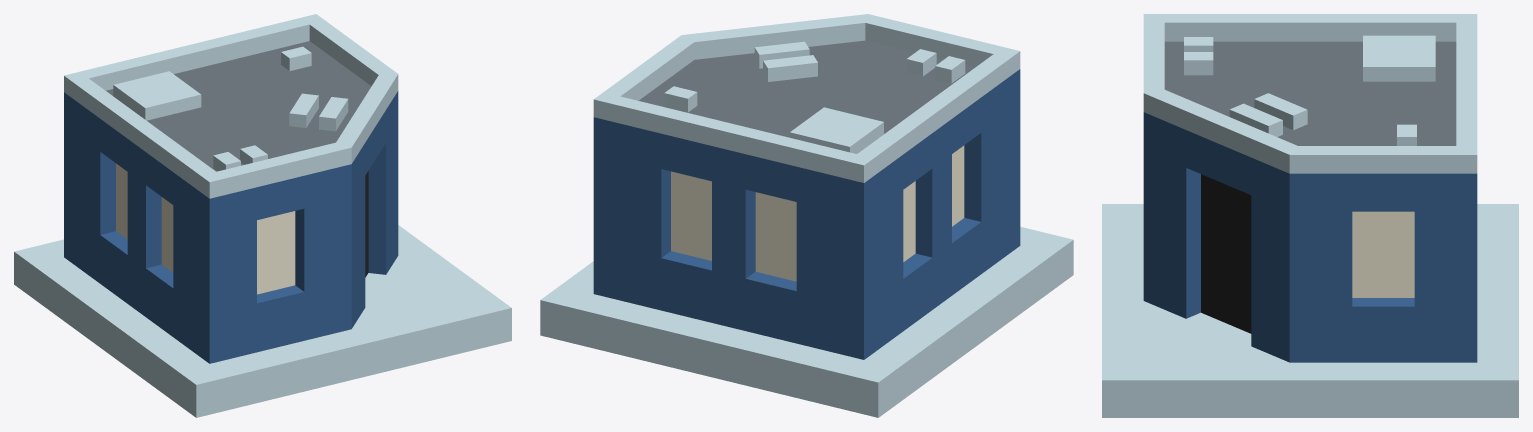
Rendered from Building_10_Base_Extra (Blue).obj.
3 renders of one model, left to right at view 1: azimuth 30°, elevation 25°; view 2: azimuth 150°, elevation 25°; view 3: azimuth 270°, elevation 25°, orthographic. The views are drawn at different scales.
Parts seen in each view (by area): view 1: Building_10_Base_Extra_(Blue); view 2: Building_10_Base_Extra_(Blue); view 3: Building_10_Base_Extra_(Blue).
Boxes of the visible parts, x1,y1,x2,y2 form: Building_10_Base_Extra_(Blue): [14, 14, 511, 417]; Building_10_Base_Extra_(Blue): [540, 14, 1073, 417]; Building_10_Base_Extra_(Blue): [1102, 14, 1518, 417].
Bounding box in the file's own units: 2 × 1.3 × 2.
